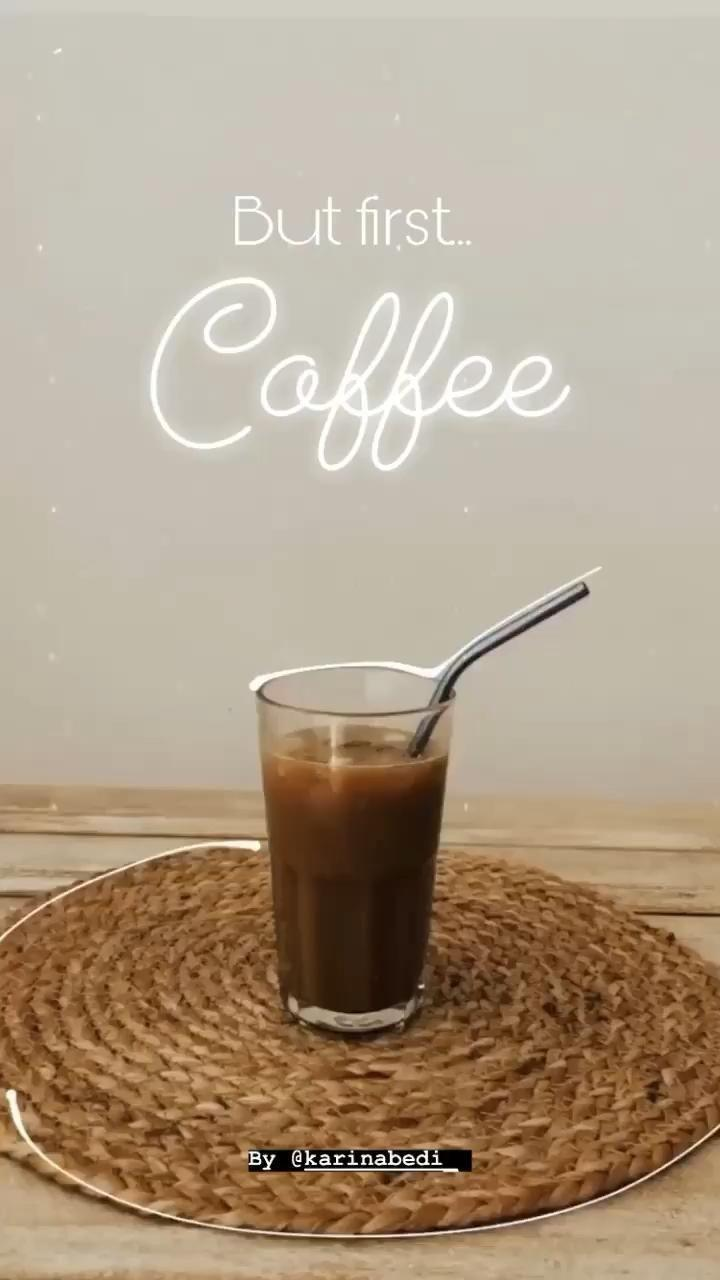glass-normal: (248, 657, 463, 1036)
